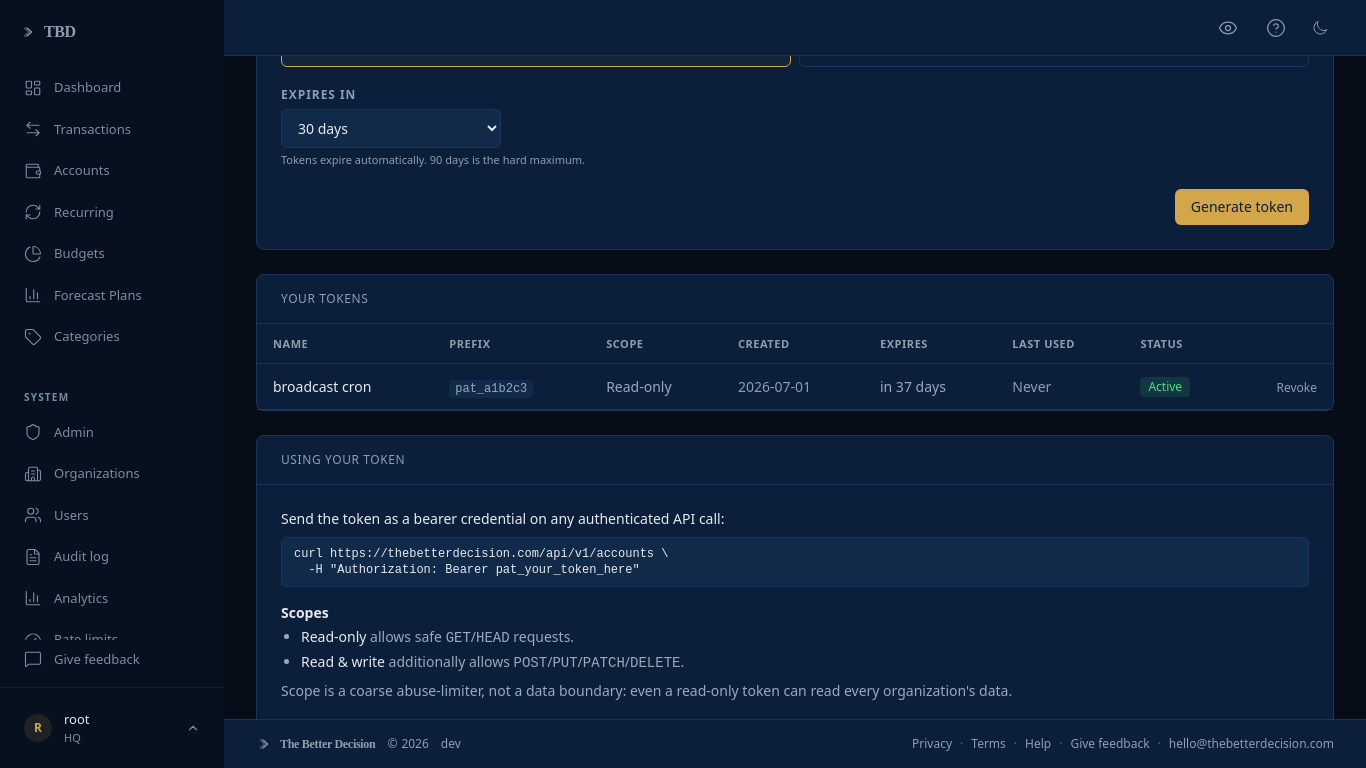
/system/api-tokens page › does not revoke a single token when the confirm modal is cancelled
The width and height of the screenshot is (1366, 768).
(page scrolled)
Expected: the text "broadcast cron" is shown, [257,364,433,410]
Click the button with test id "api-token-revoke-1" at (1297, 388), box [1276,380,1317,396]
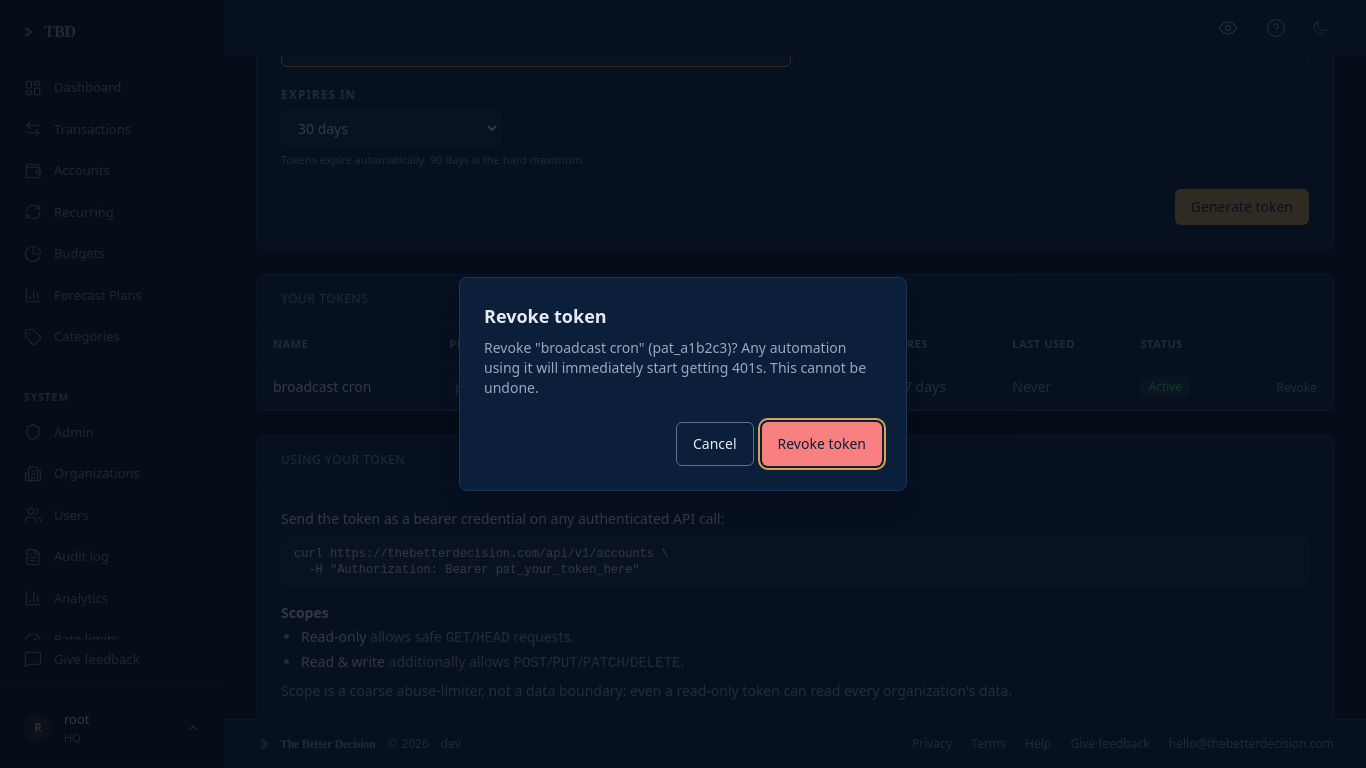
Click the button "Cancel" at (715, 444), box [676,422,754,466]
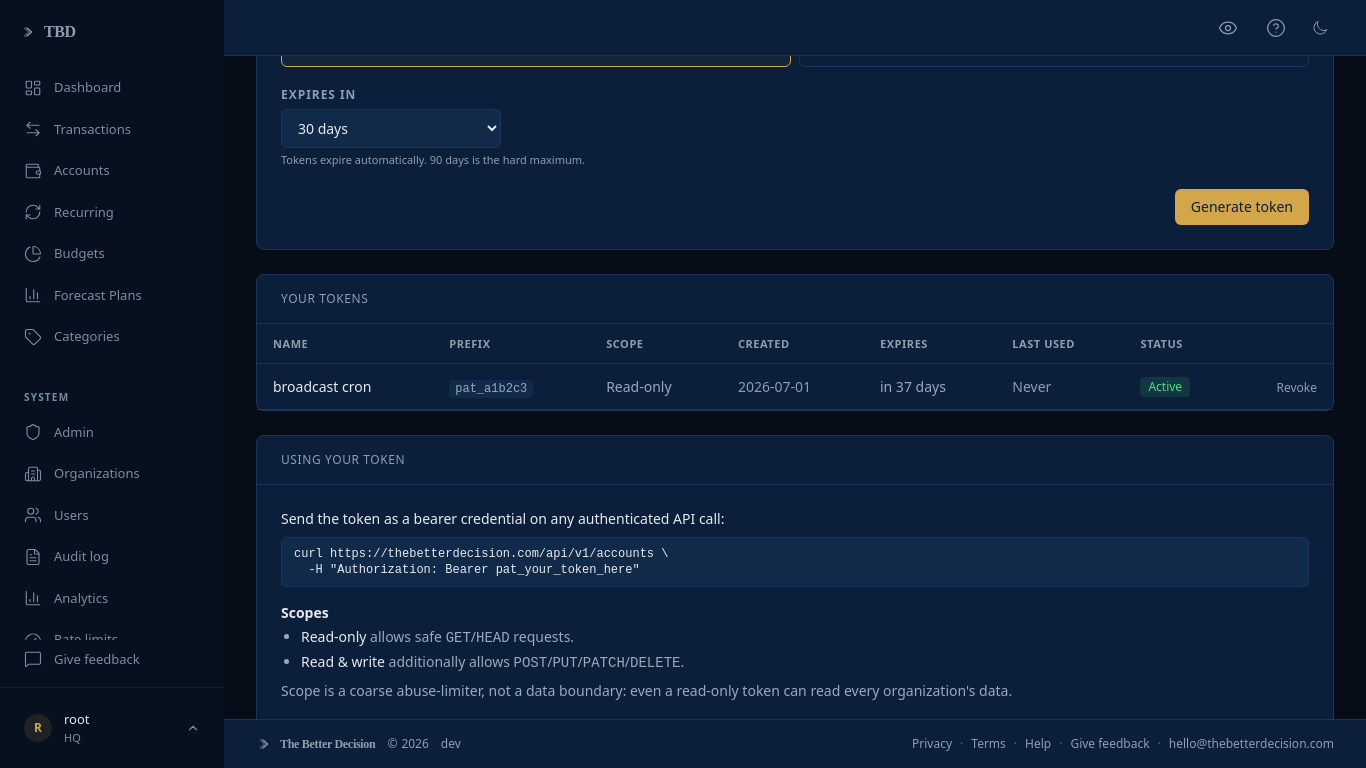
Expected: the dialog is gone
